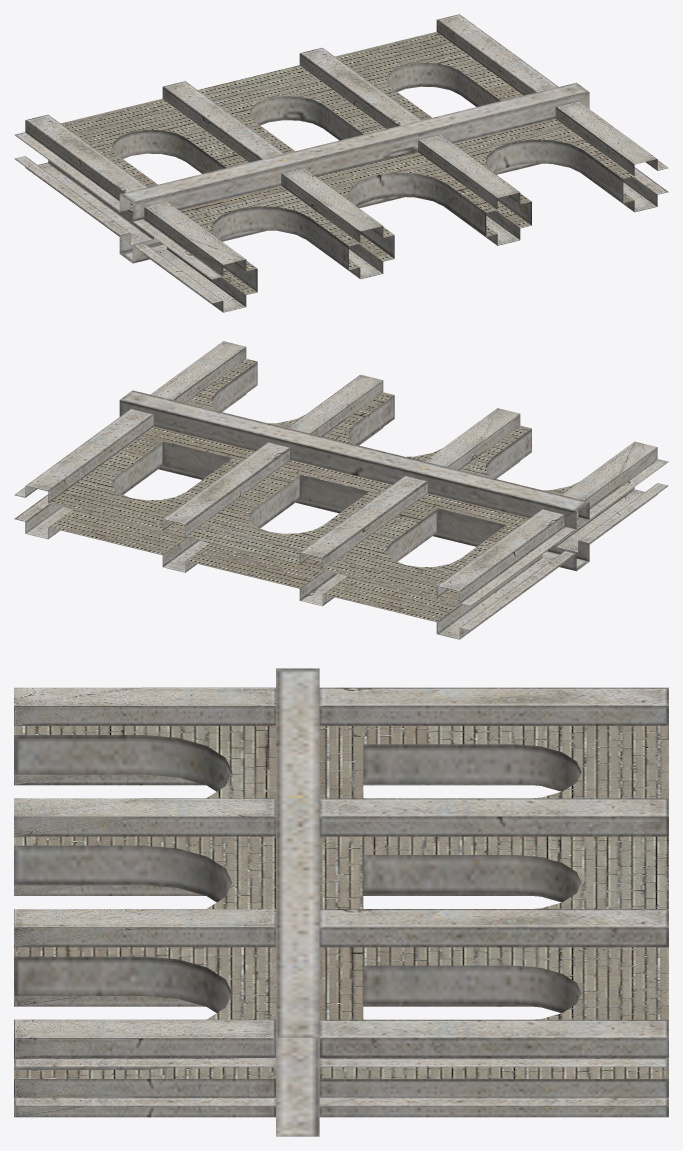
Rendered from SM_SYD_Facade01.fbx.
3 renders of one model, top to bottom at view 1: azimuth 30°, elevation 25°; view 2: azimuth 150°, elevation 25°; view 3: azimuth 270°, elevation 25°, orthographic. The views are drawn at different scales.
Parts seen in each view (by area): view 1: SM_SYD_Facade01; view 2: SM_SYD_Facade01; view 3: SM_SYD_Facade01.
Boxes of the visible parts, x1,y1,x2,y2 form: SM_SYD_Facade01: (14,14,668,312); SM_SYD_Facade01: (14,341,668,639); SM_SYD_Facade01: (14,668,668,1136).
Bounding box in the file's own units: 1500 × 188 × 1125.
